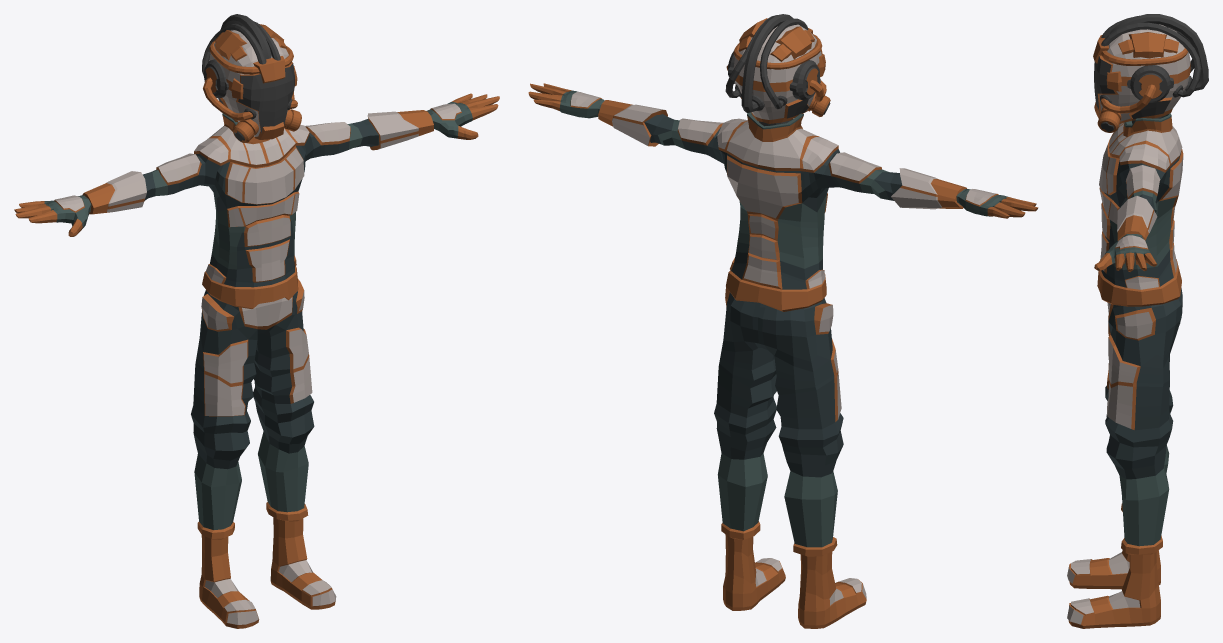
Rendered from mixamo_reference_spacesuit.fbx.
The picture shows the model from 3 angles, left to right: view 1: azimuth 30°, elevation 25°; view 2: azimuth 150°, elevation 25°; view 3: azimuth 270°, elevation 25°; orthographic projection. The views are drawn at different scales.
Visible parts, largest first — view 1: SpaceSuit; view 2: SpaceSuit; view 3: SpaceSuit.
Boxes of the visible parts, x1,y1,x2,y2 form: SpaceSuit: (14, 14, 499, 628); SpaceSuit: (528, 14, 1038, 628); SpaceSuit: (1067, 14, 1208, 628).
Size of the model in its own units: 168 by 189 by 41.28.
